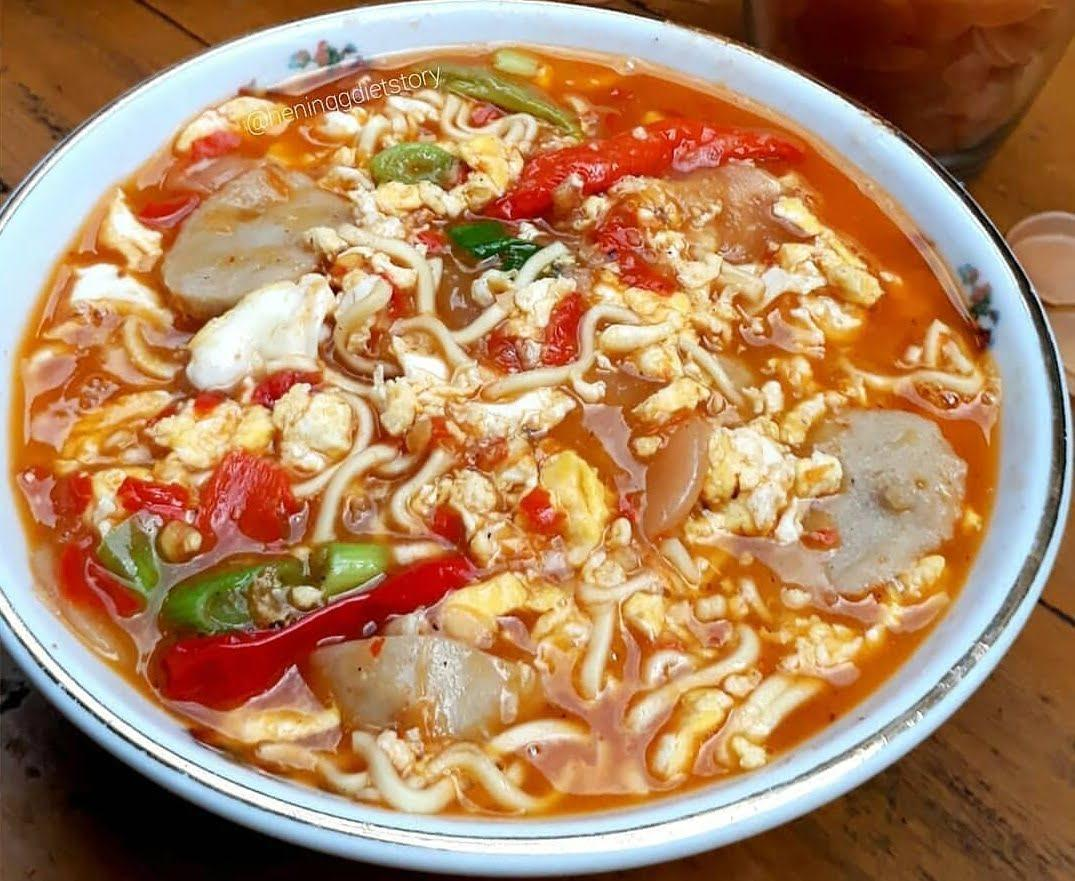seblak: (17, 44, 1005, 825)
